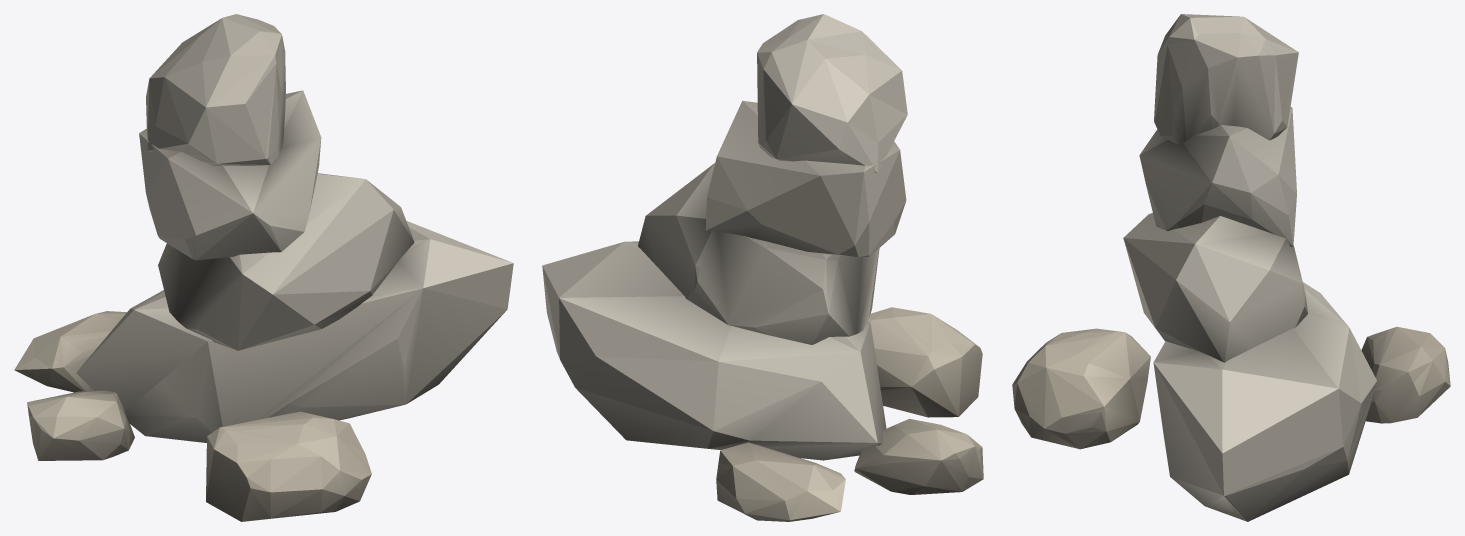
Rendered from HeroCliff_B.fbx.
3 renders of one model, left to right at view 1: azimuth 30°, elevation 25°; view 2: azimuth 150°, elevation 25°; view 3: azimuth 270°, elevation 25°, orthographic.
Visible parts, largest first — view 1: HeroCliff_B__Rock; view 2: HeroCliff_B__Rock; view 3: HeroCliff_B__Rock.
Boxes of the visible parts, <box> form: HeroCliff_B__Rock: <box>14,14,513,521</box>; HeroCliff_B__Rock: <box>542,14,983,521</box>; HeroCliff_B__Rock: <box>1012,14,1450,521</box>.
Bounding box in the file's own units: 9.74 × 8.43 × 8.11.
